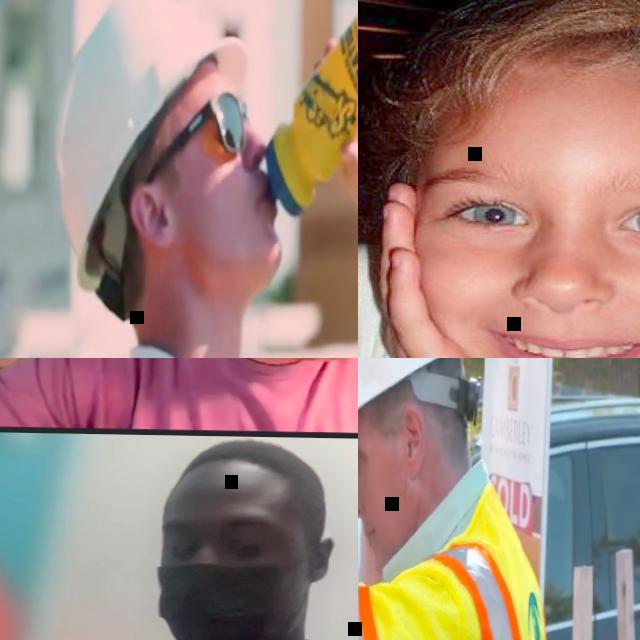Hardhat: (59, 0, 250, 297), (358, 358, 464, 426)
NO-Hardhat: (415, 0, 640, 163), (160, 437, 329, 505)
NO-Mask: (407, 238, 640, 358), (127, 158, 285, 296), (148, 558, 314, 640), (366, 444, 420, 574)
NO-Safety Vest: (358, 239, 640, 358), (69, 358, 358, 431)
Person: (49, 0, 358, 358), (358, 0, 640, 358), (17, 433, 358, 640), (358, 358, 559, 640), (0, 358, 358, 435)
Safety Vest: (358, 486, 554, 640)
vehicle: (358, 380, 640, 640)
